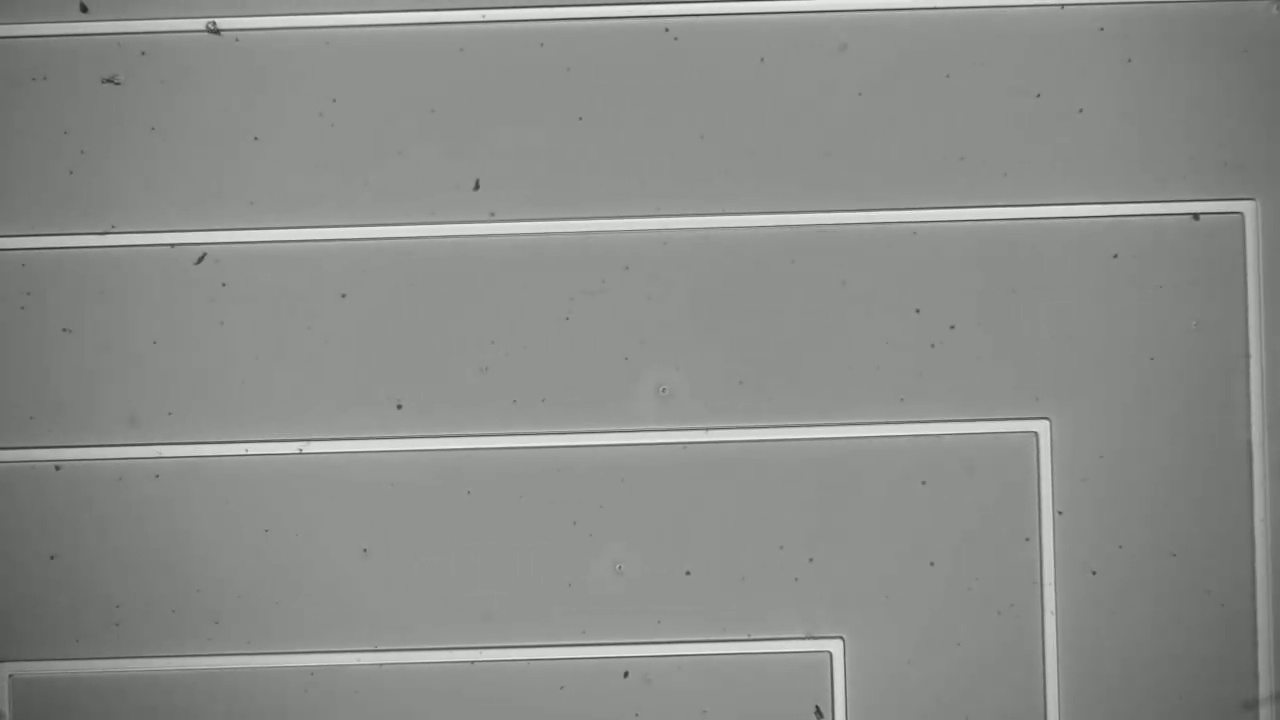stains_enbedded: (198, 13, 226, 44)
